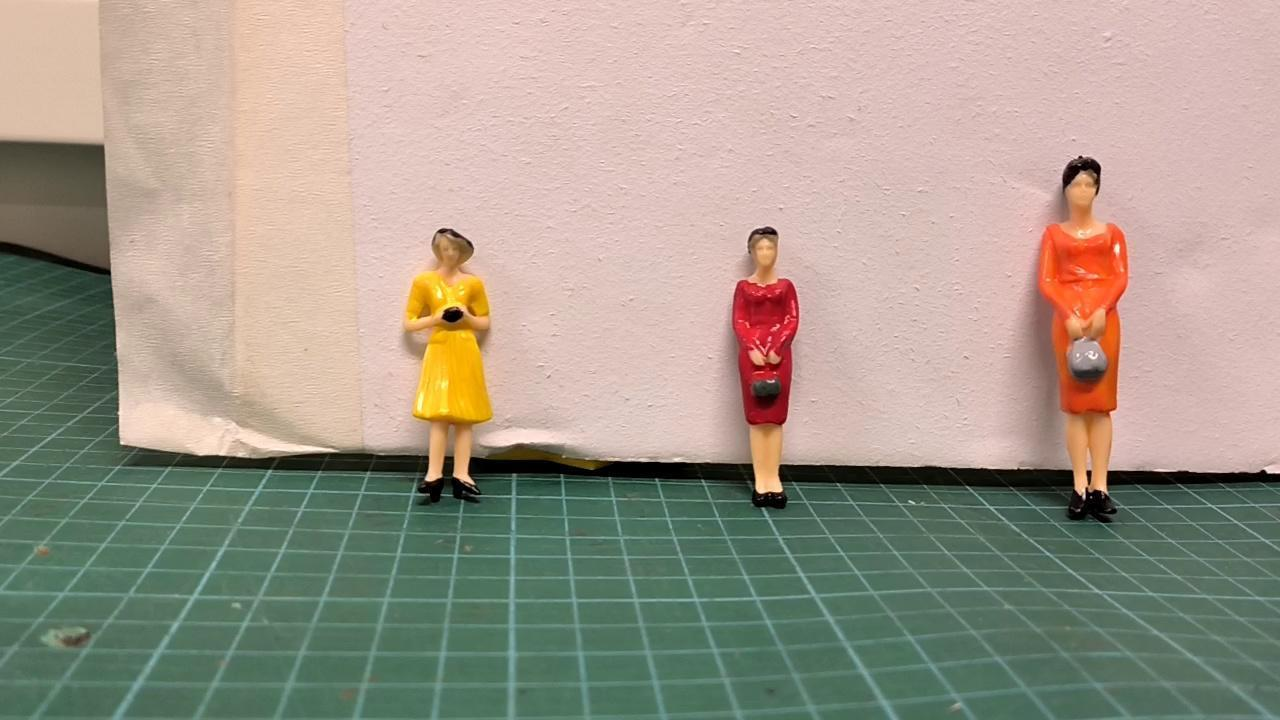human: (1028, 153, 1142, 529), (395, 221, 498, 511), (715, 223, 809, 513)
